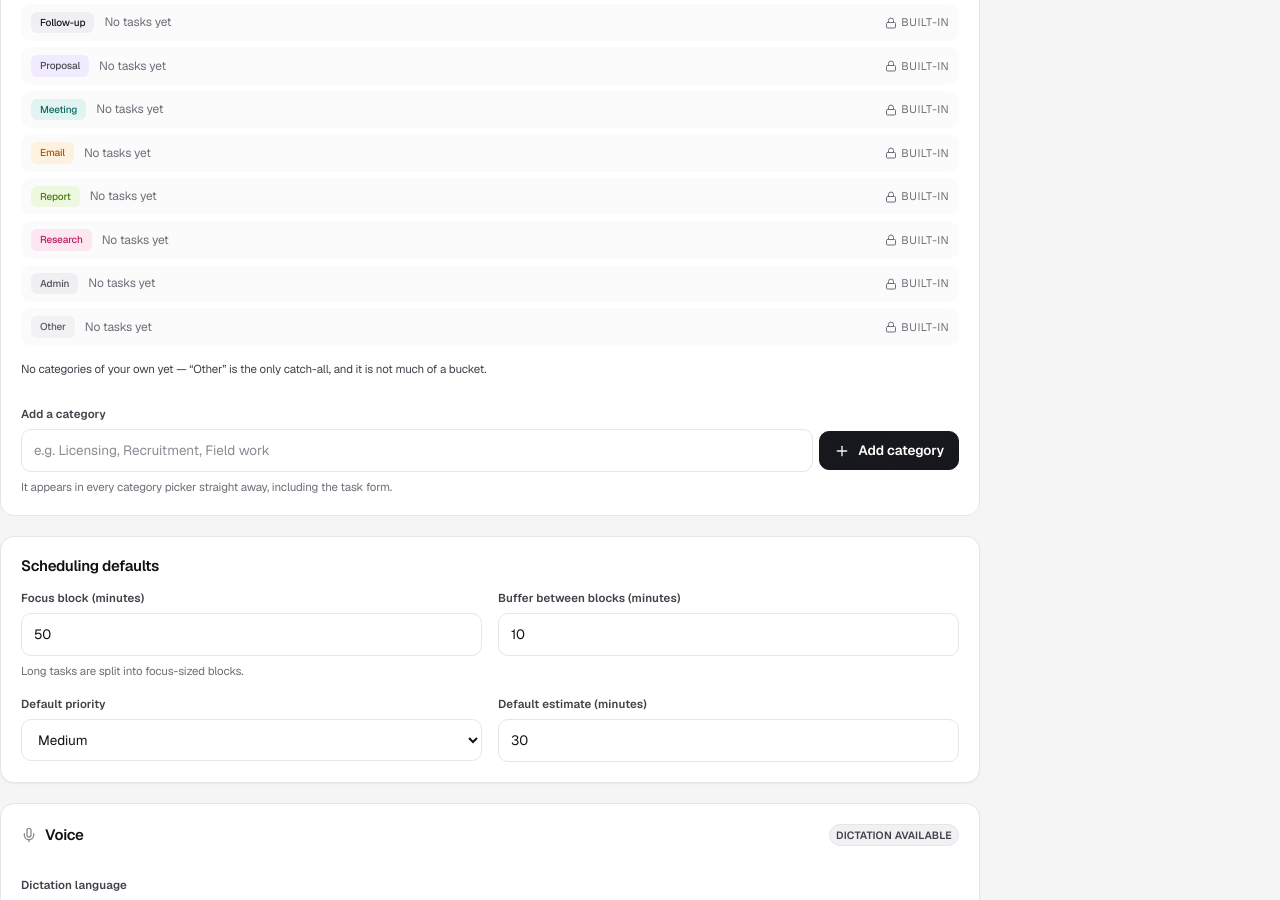
it: Categories in Settings › shows the reason when saving is refused
The width and height of the screenshot is (1280, 900).
(page scrolled)
Type "Licensing" into the field labelled "Add a category" at (417, 450), box 21,429 -> 813,472
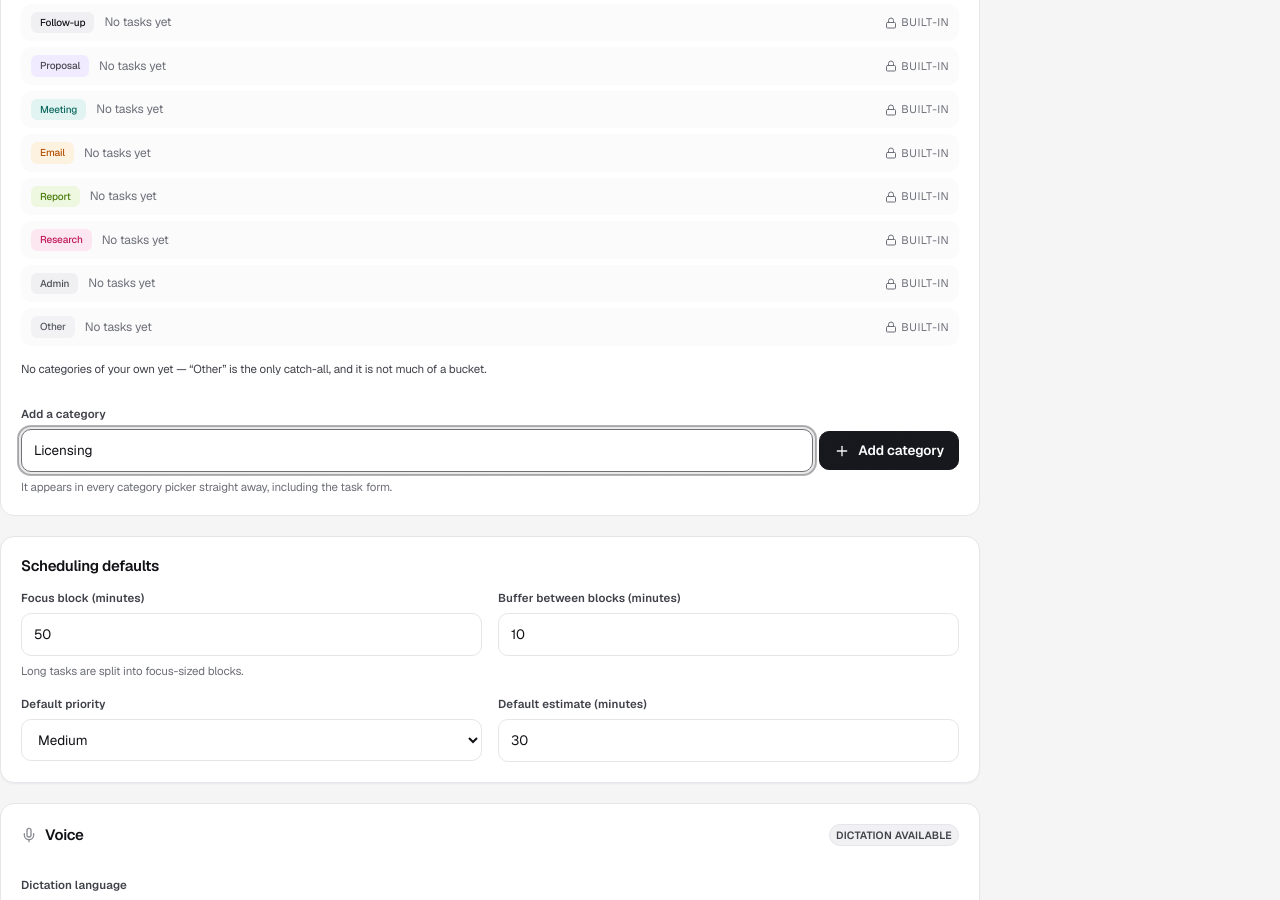
Click the button "Add category" at (889, 450), box 819,431 -> 959,470
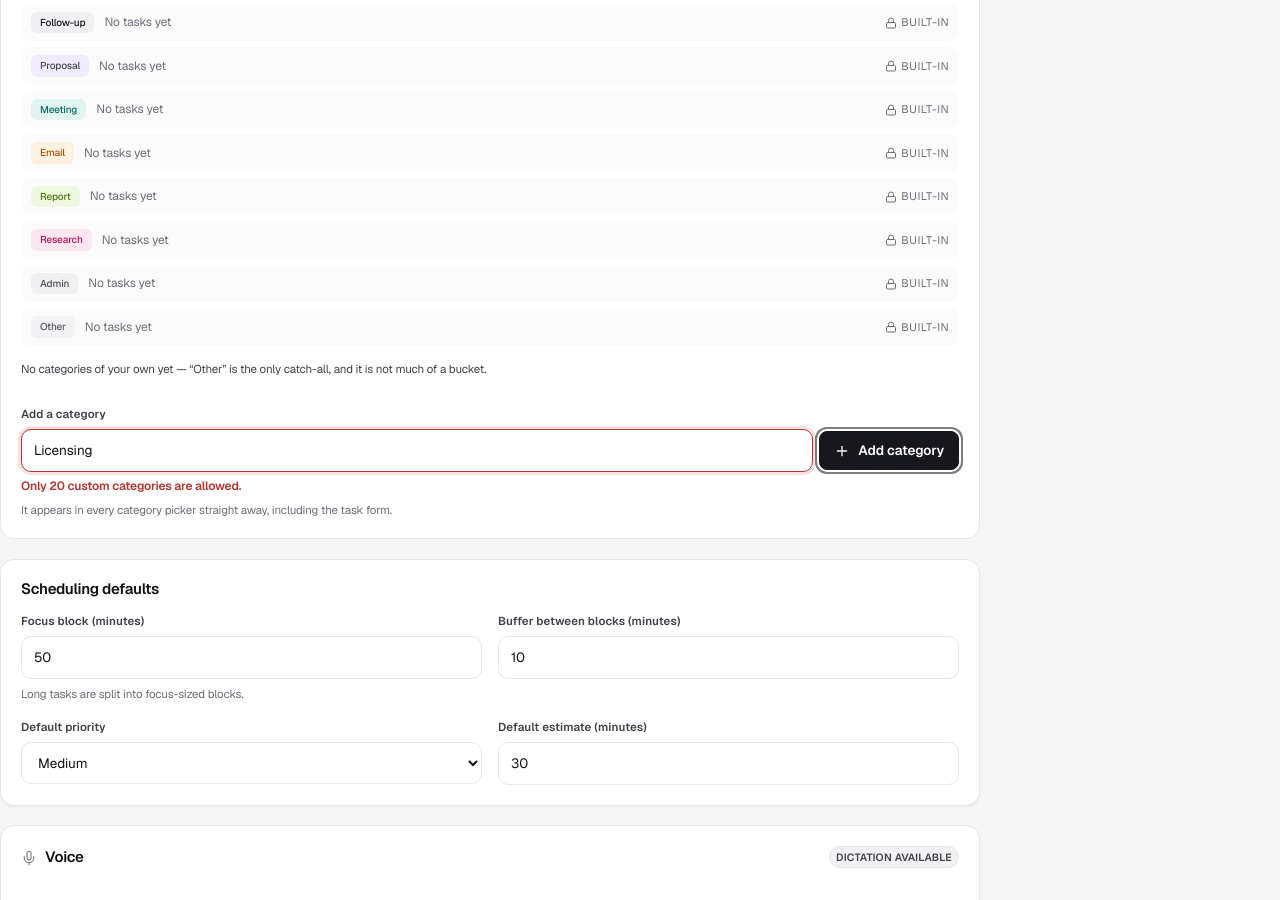
Check: the text "Only 20 custom categories are allowed." is shown, box 21,478 -> 241,494
